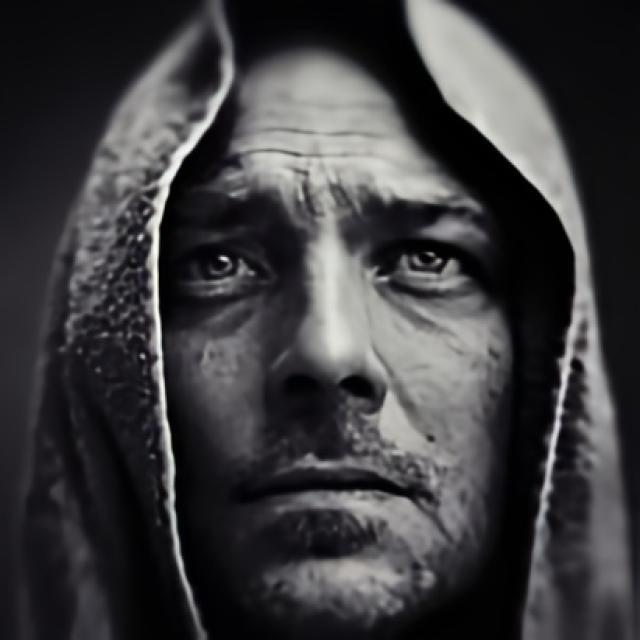sad: (159, 46, 528, 640)
